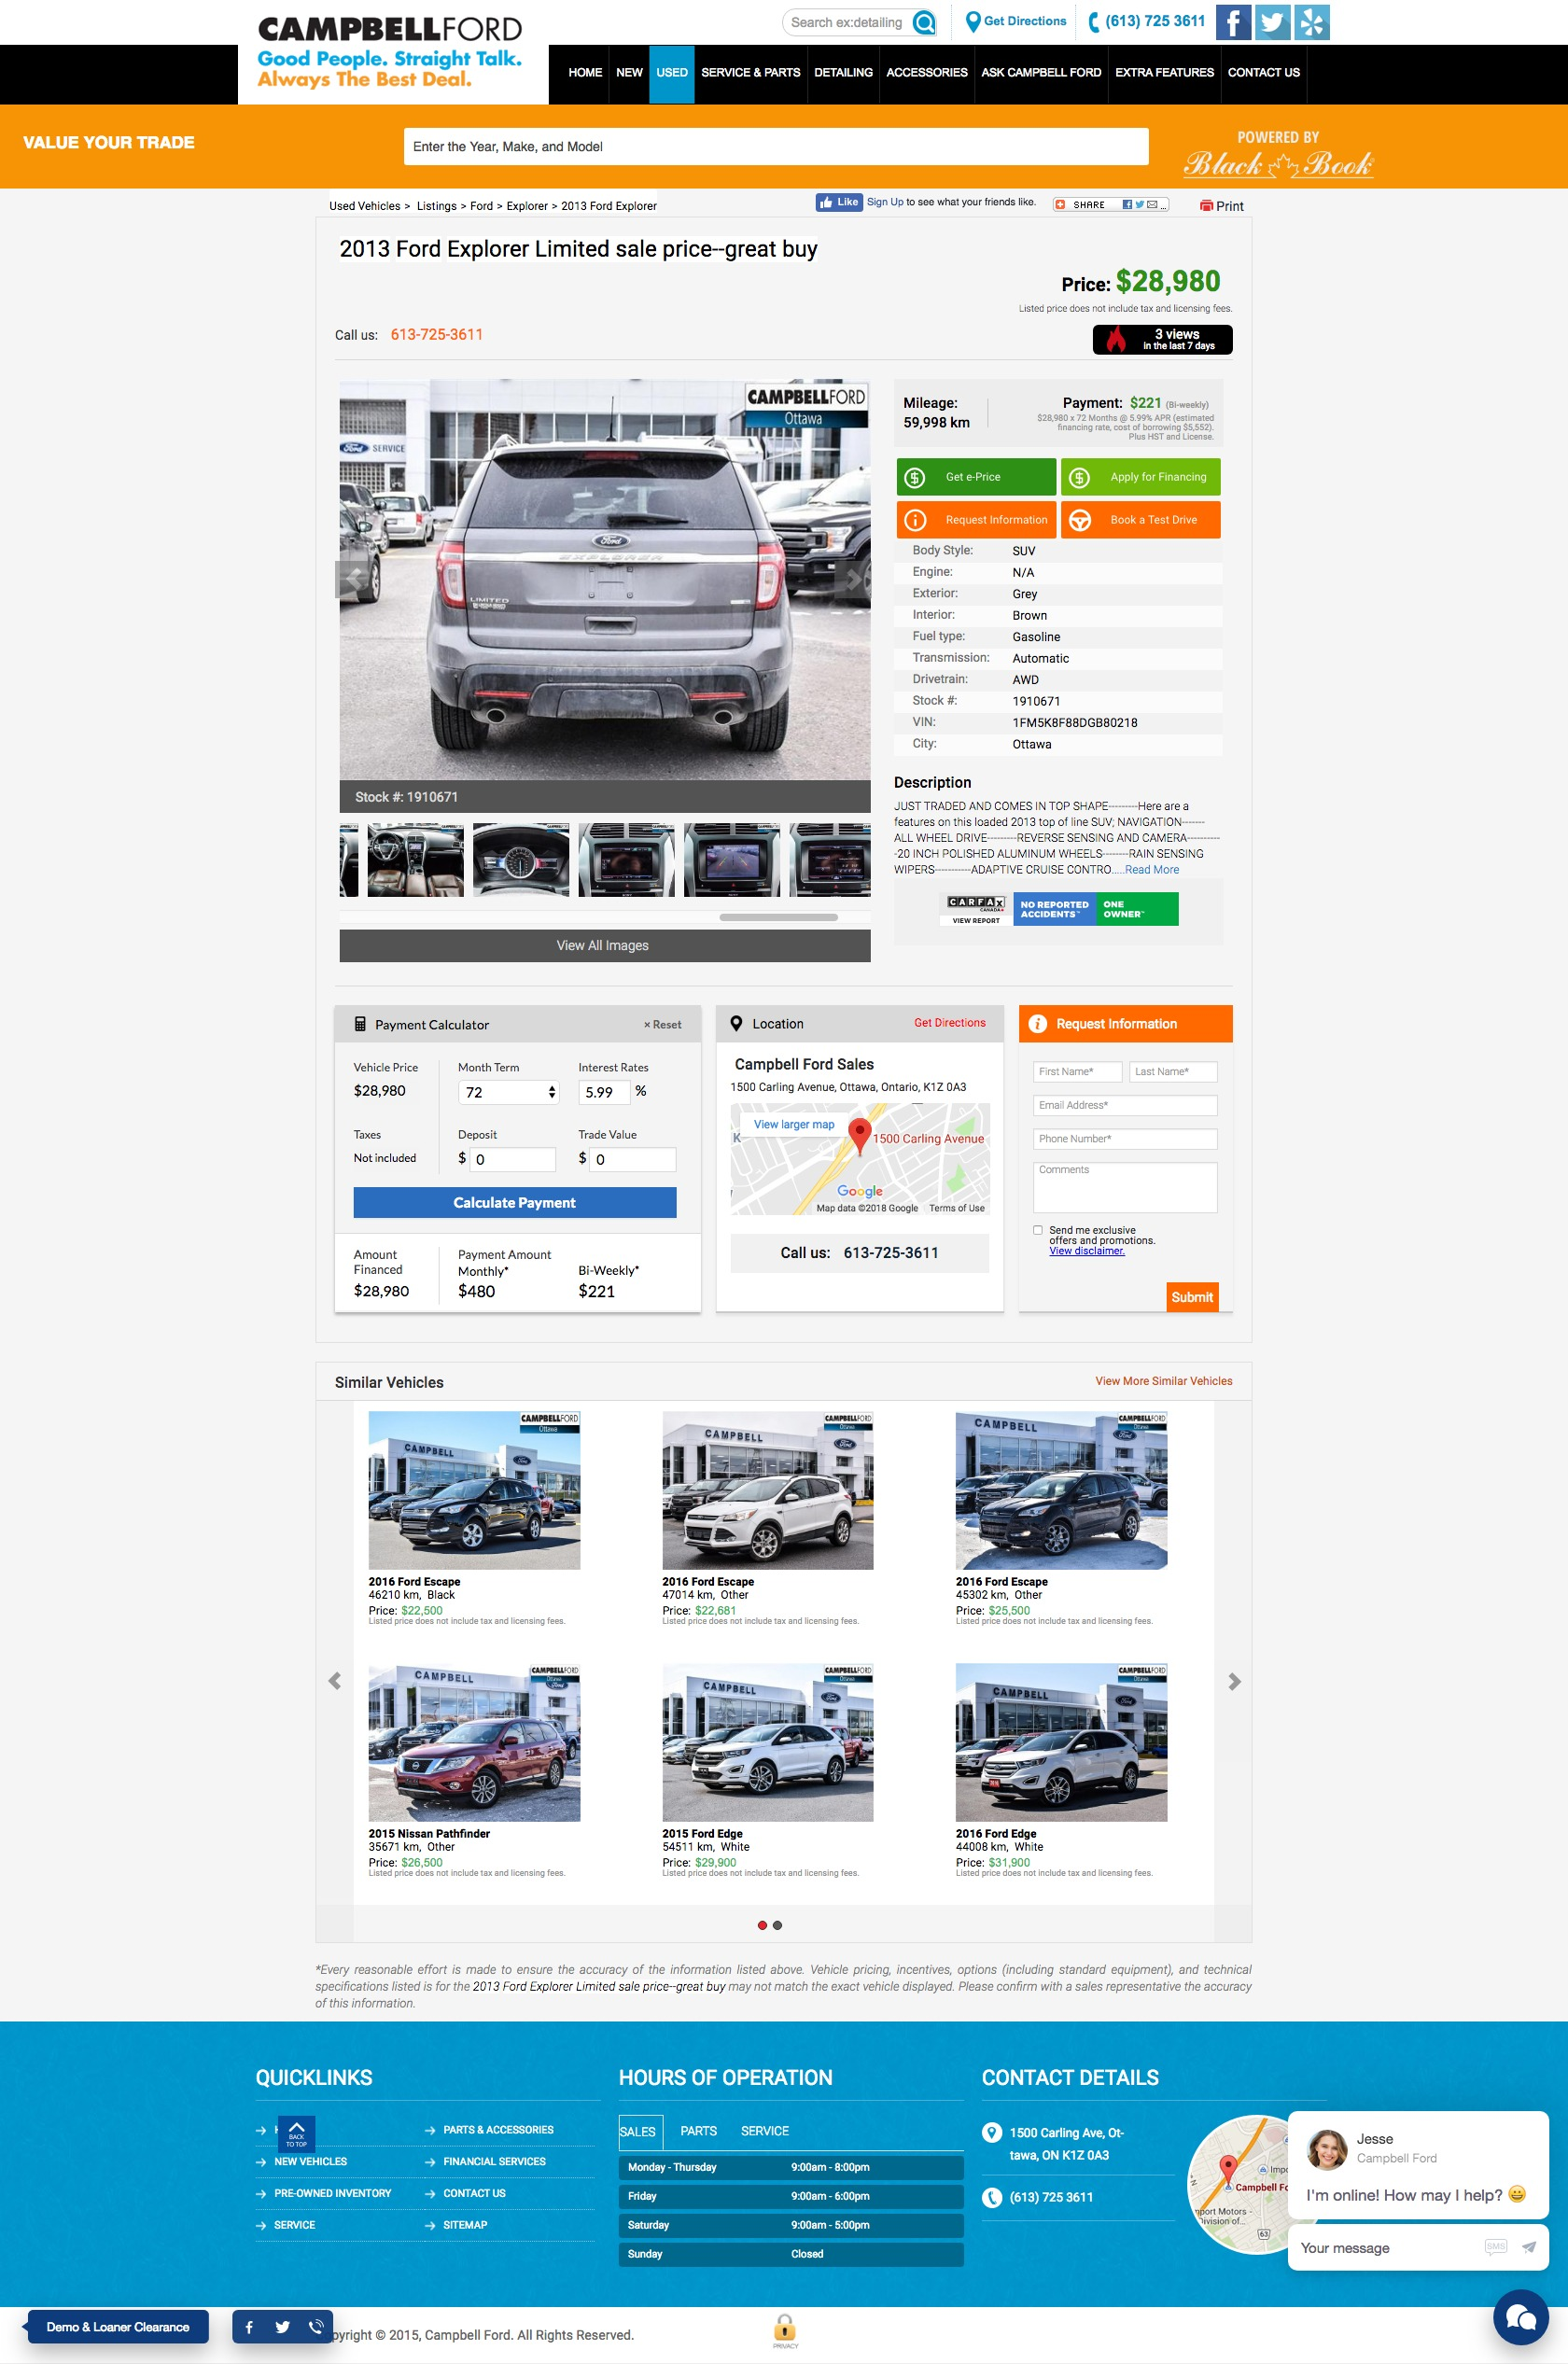car: (835, 562, 873, 600)
